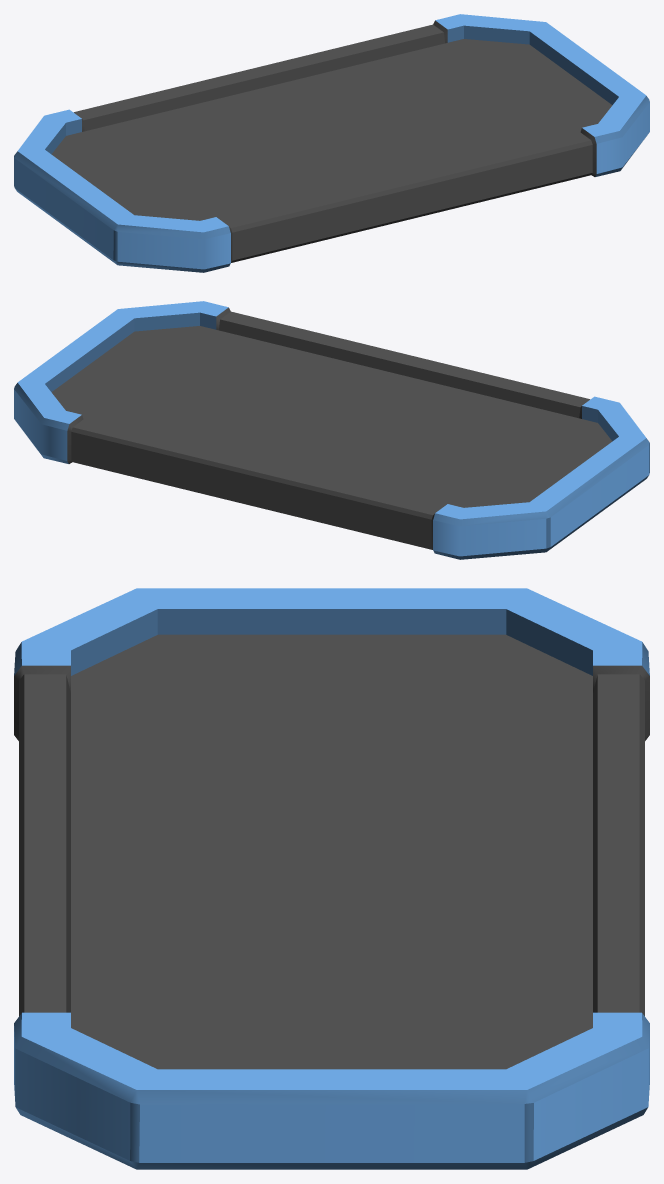
Rendered from KeyScreen.fbx.
3 views of the same model, one above another, from view 1: azimuth 30°, elevation 25°; view 2: azimuth 150°, elevation 25°; view 3: azimuth 270°, elevation 25° (orthographic). The views are drawn at different scales.
Parts seen in each view (by area): view 1: pCube3; view 2: pCube3; view 3: pCube3.
Part boxes in pixels (x1,y1,x2,y2): pCube3: (14,14,649,272); pCube3: (14,301,649,559); pCube3: (14,588,649,1169).
Size of the model in its own units: 1.79 by 0.1304 by 0.9452.
